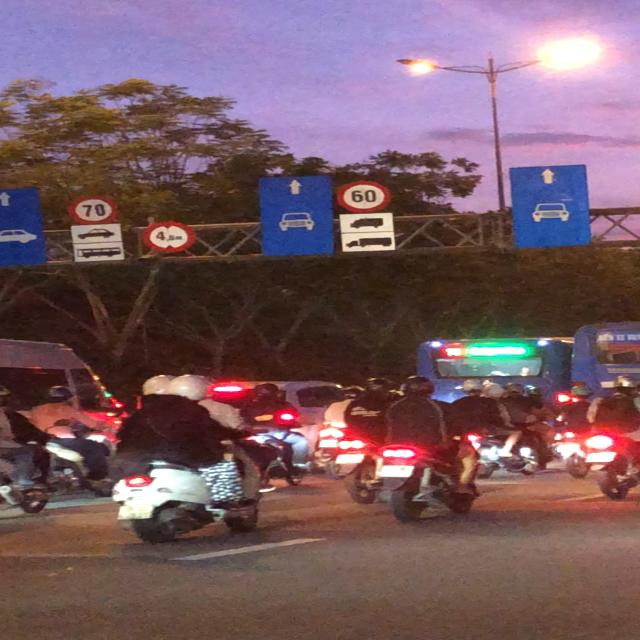Bien bao han che chieu cao: (138, 218, 199, 255)
Bien bao toc do toi da cho phep: (334, 178, 401, 216), (63, 189, 123, 226)
